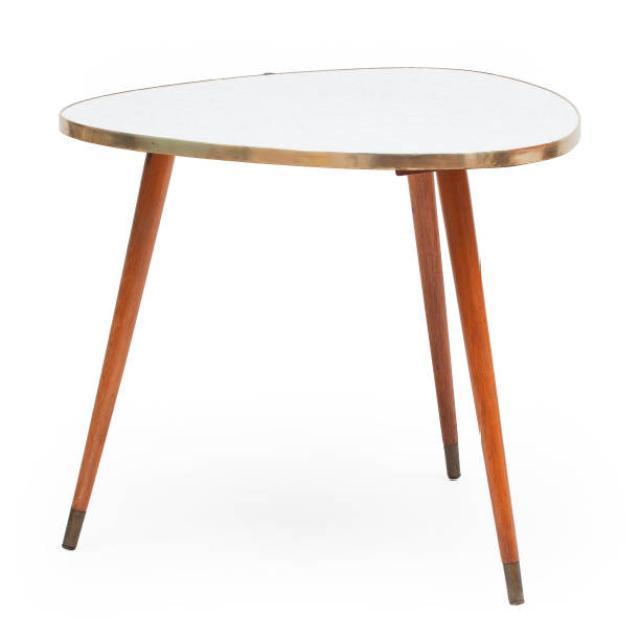table: (56, 64, 582, 606)
